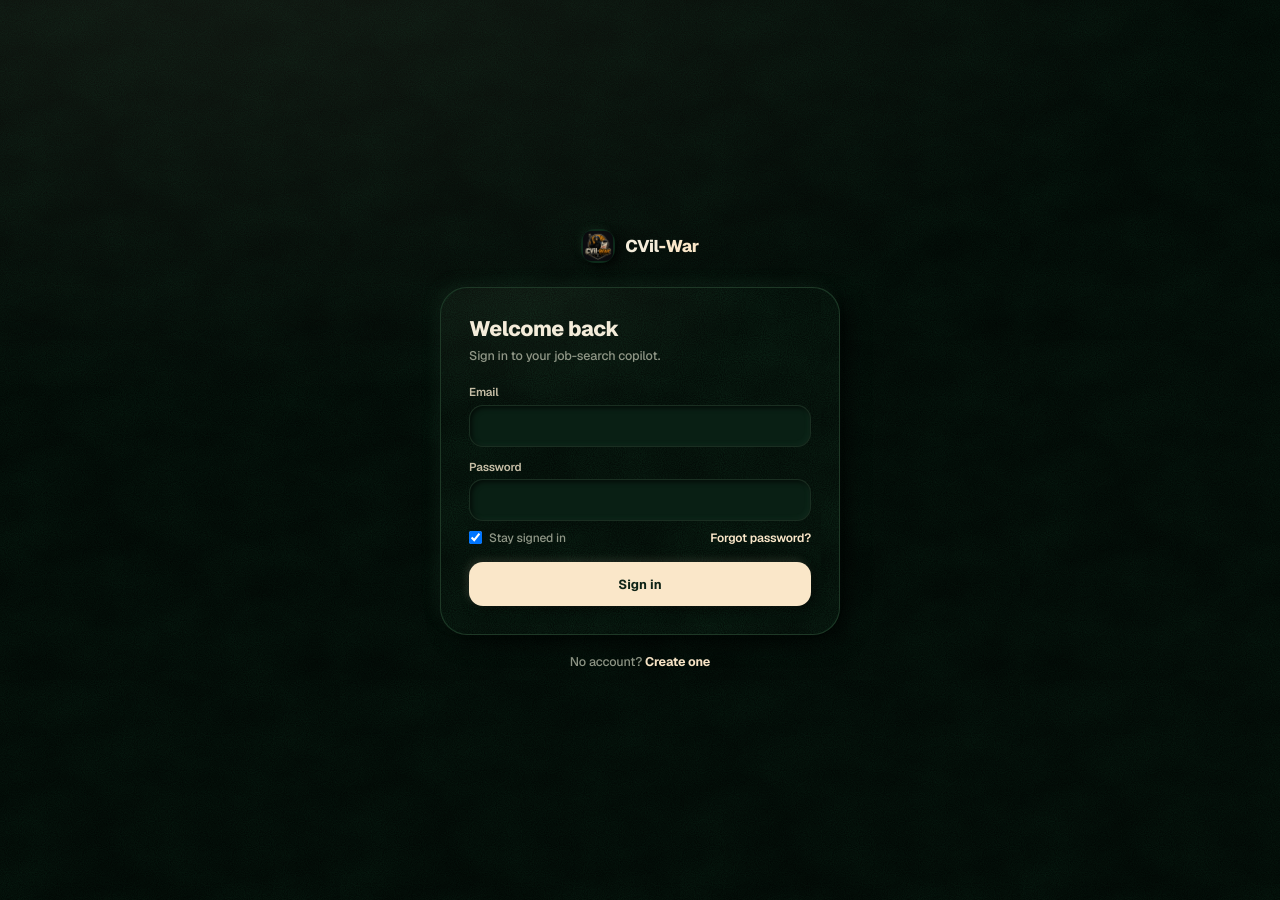
LoginPage error handling › tells the user when the server is unreachable
Type "me@test.dev" into the field labelled "Email" at (640,426), box [469,405,811,447]
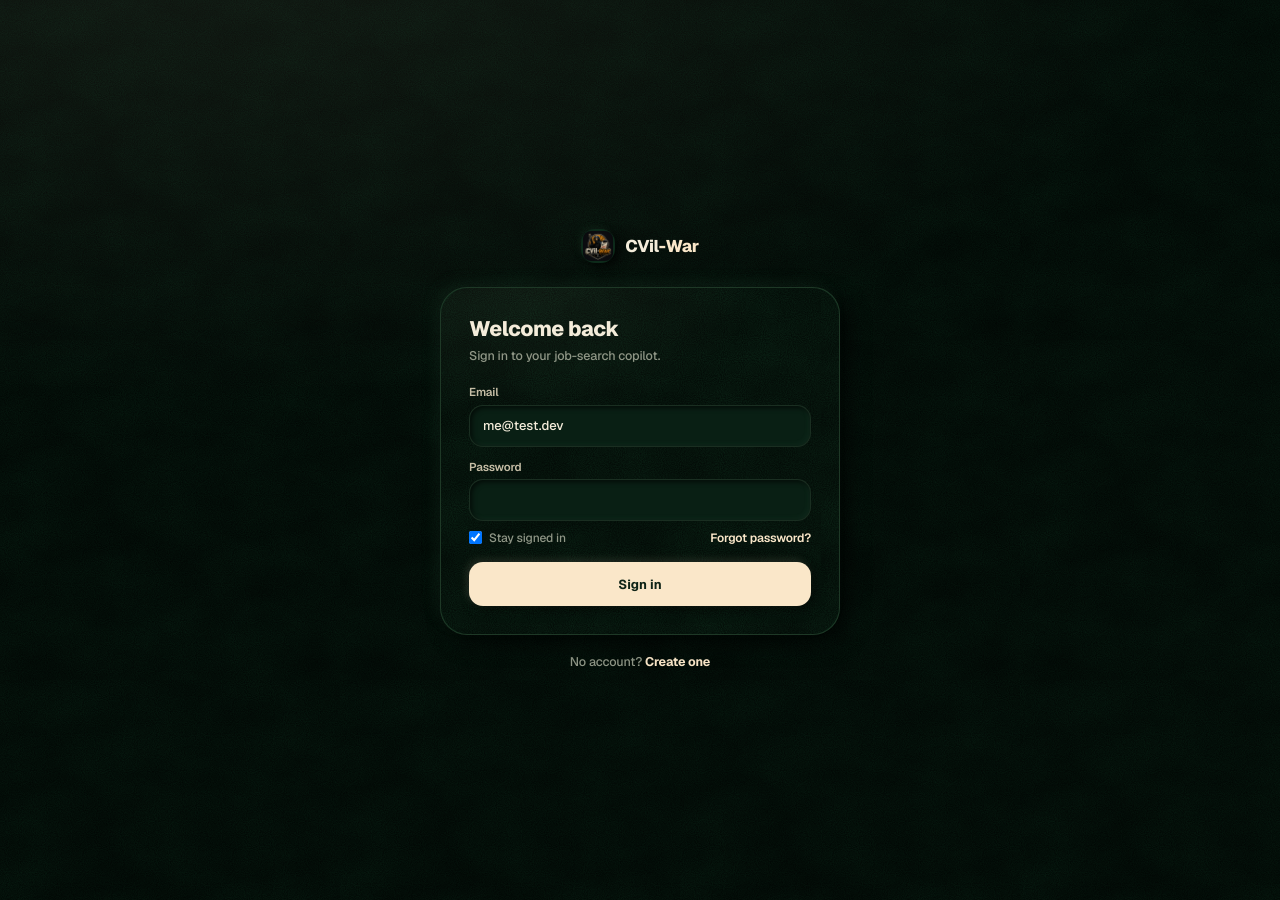
Type "whatever123" into the password field labelled "Password" at (640,500), box [469,479,811,521]
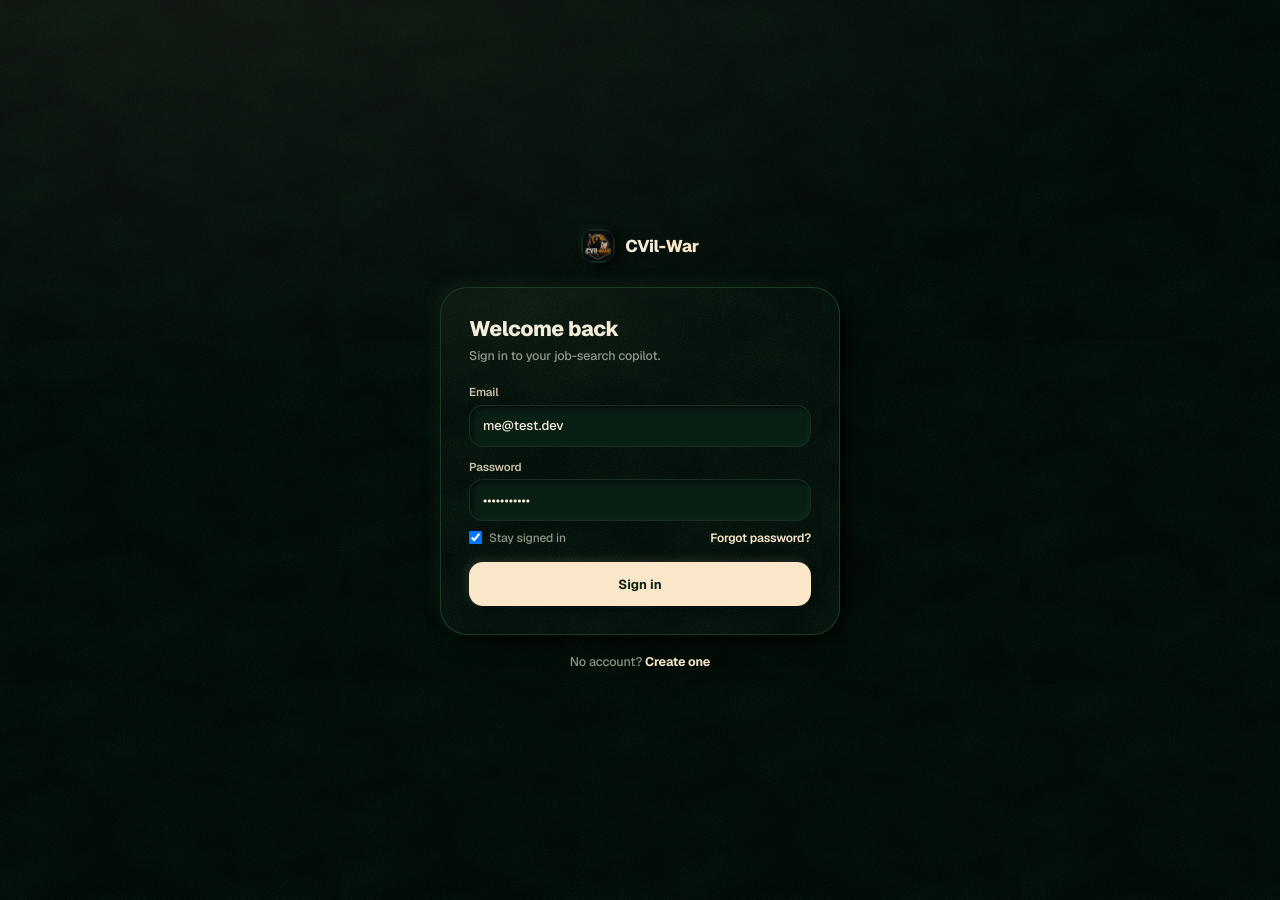
Click the button "Sign in" at (640,584), box [469,562,811,606]
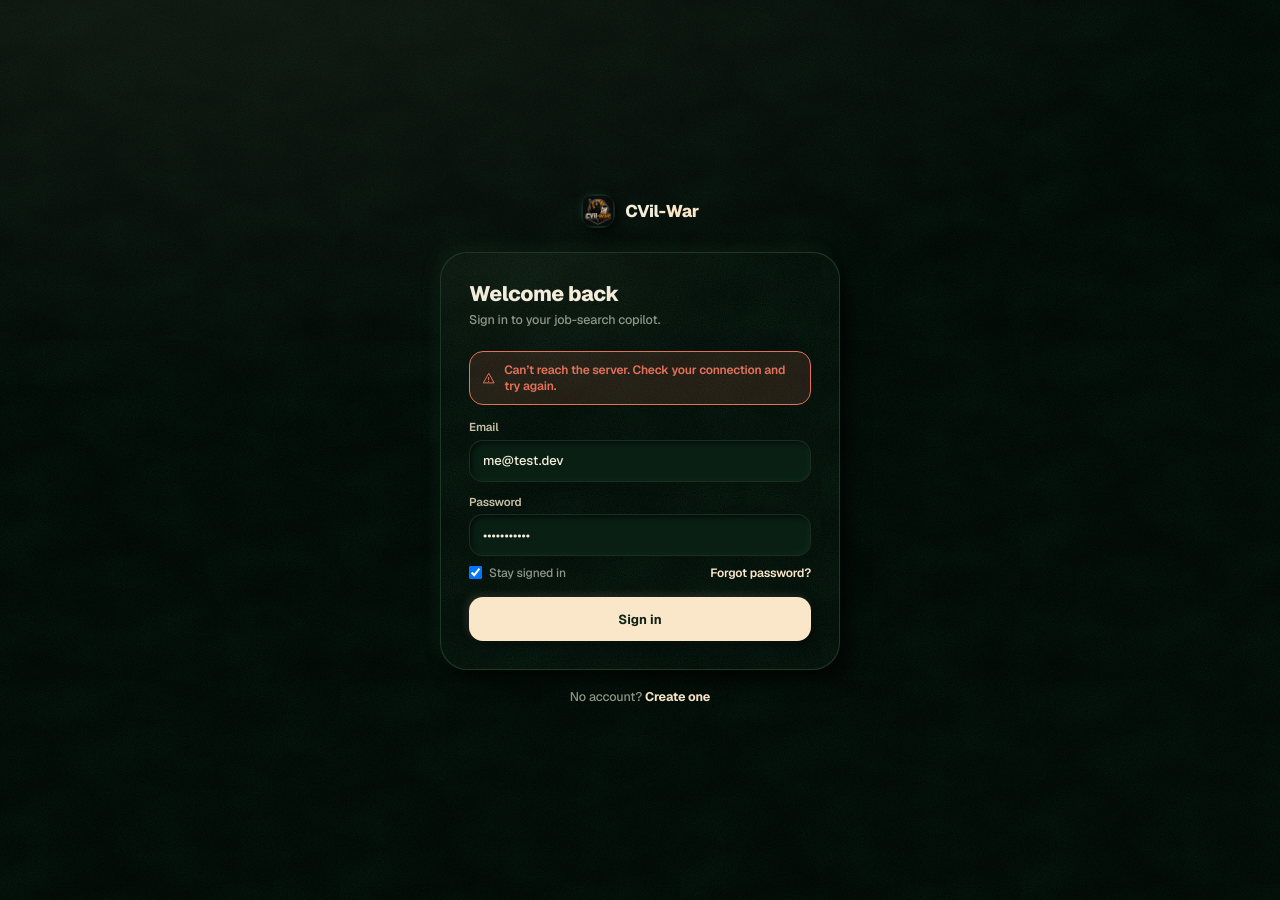
Result: the text "Can’t reach the server. Check your connection and try again." is shown at [469,351,811,405]
